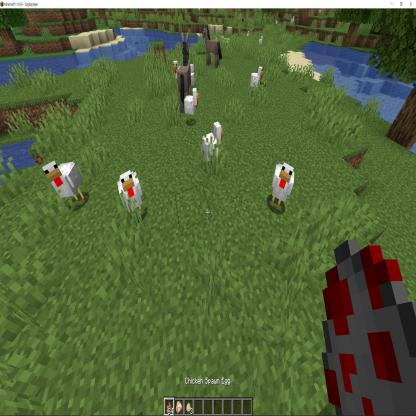minecraft-pigs: (182, 187, 225, 275)
